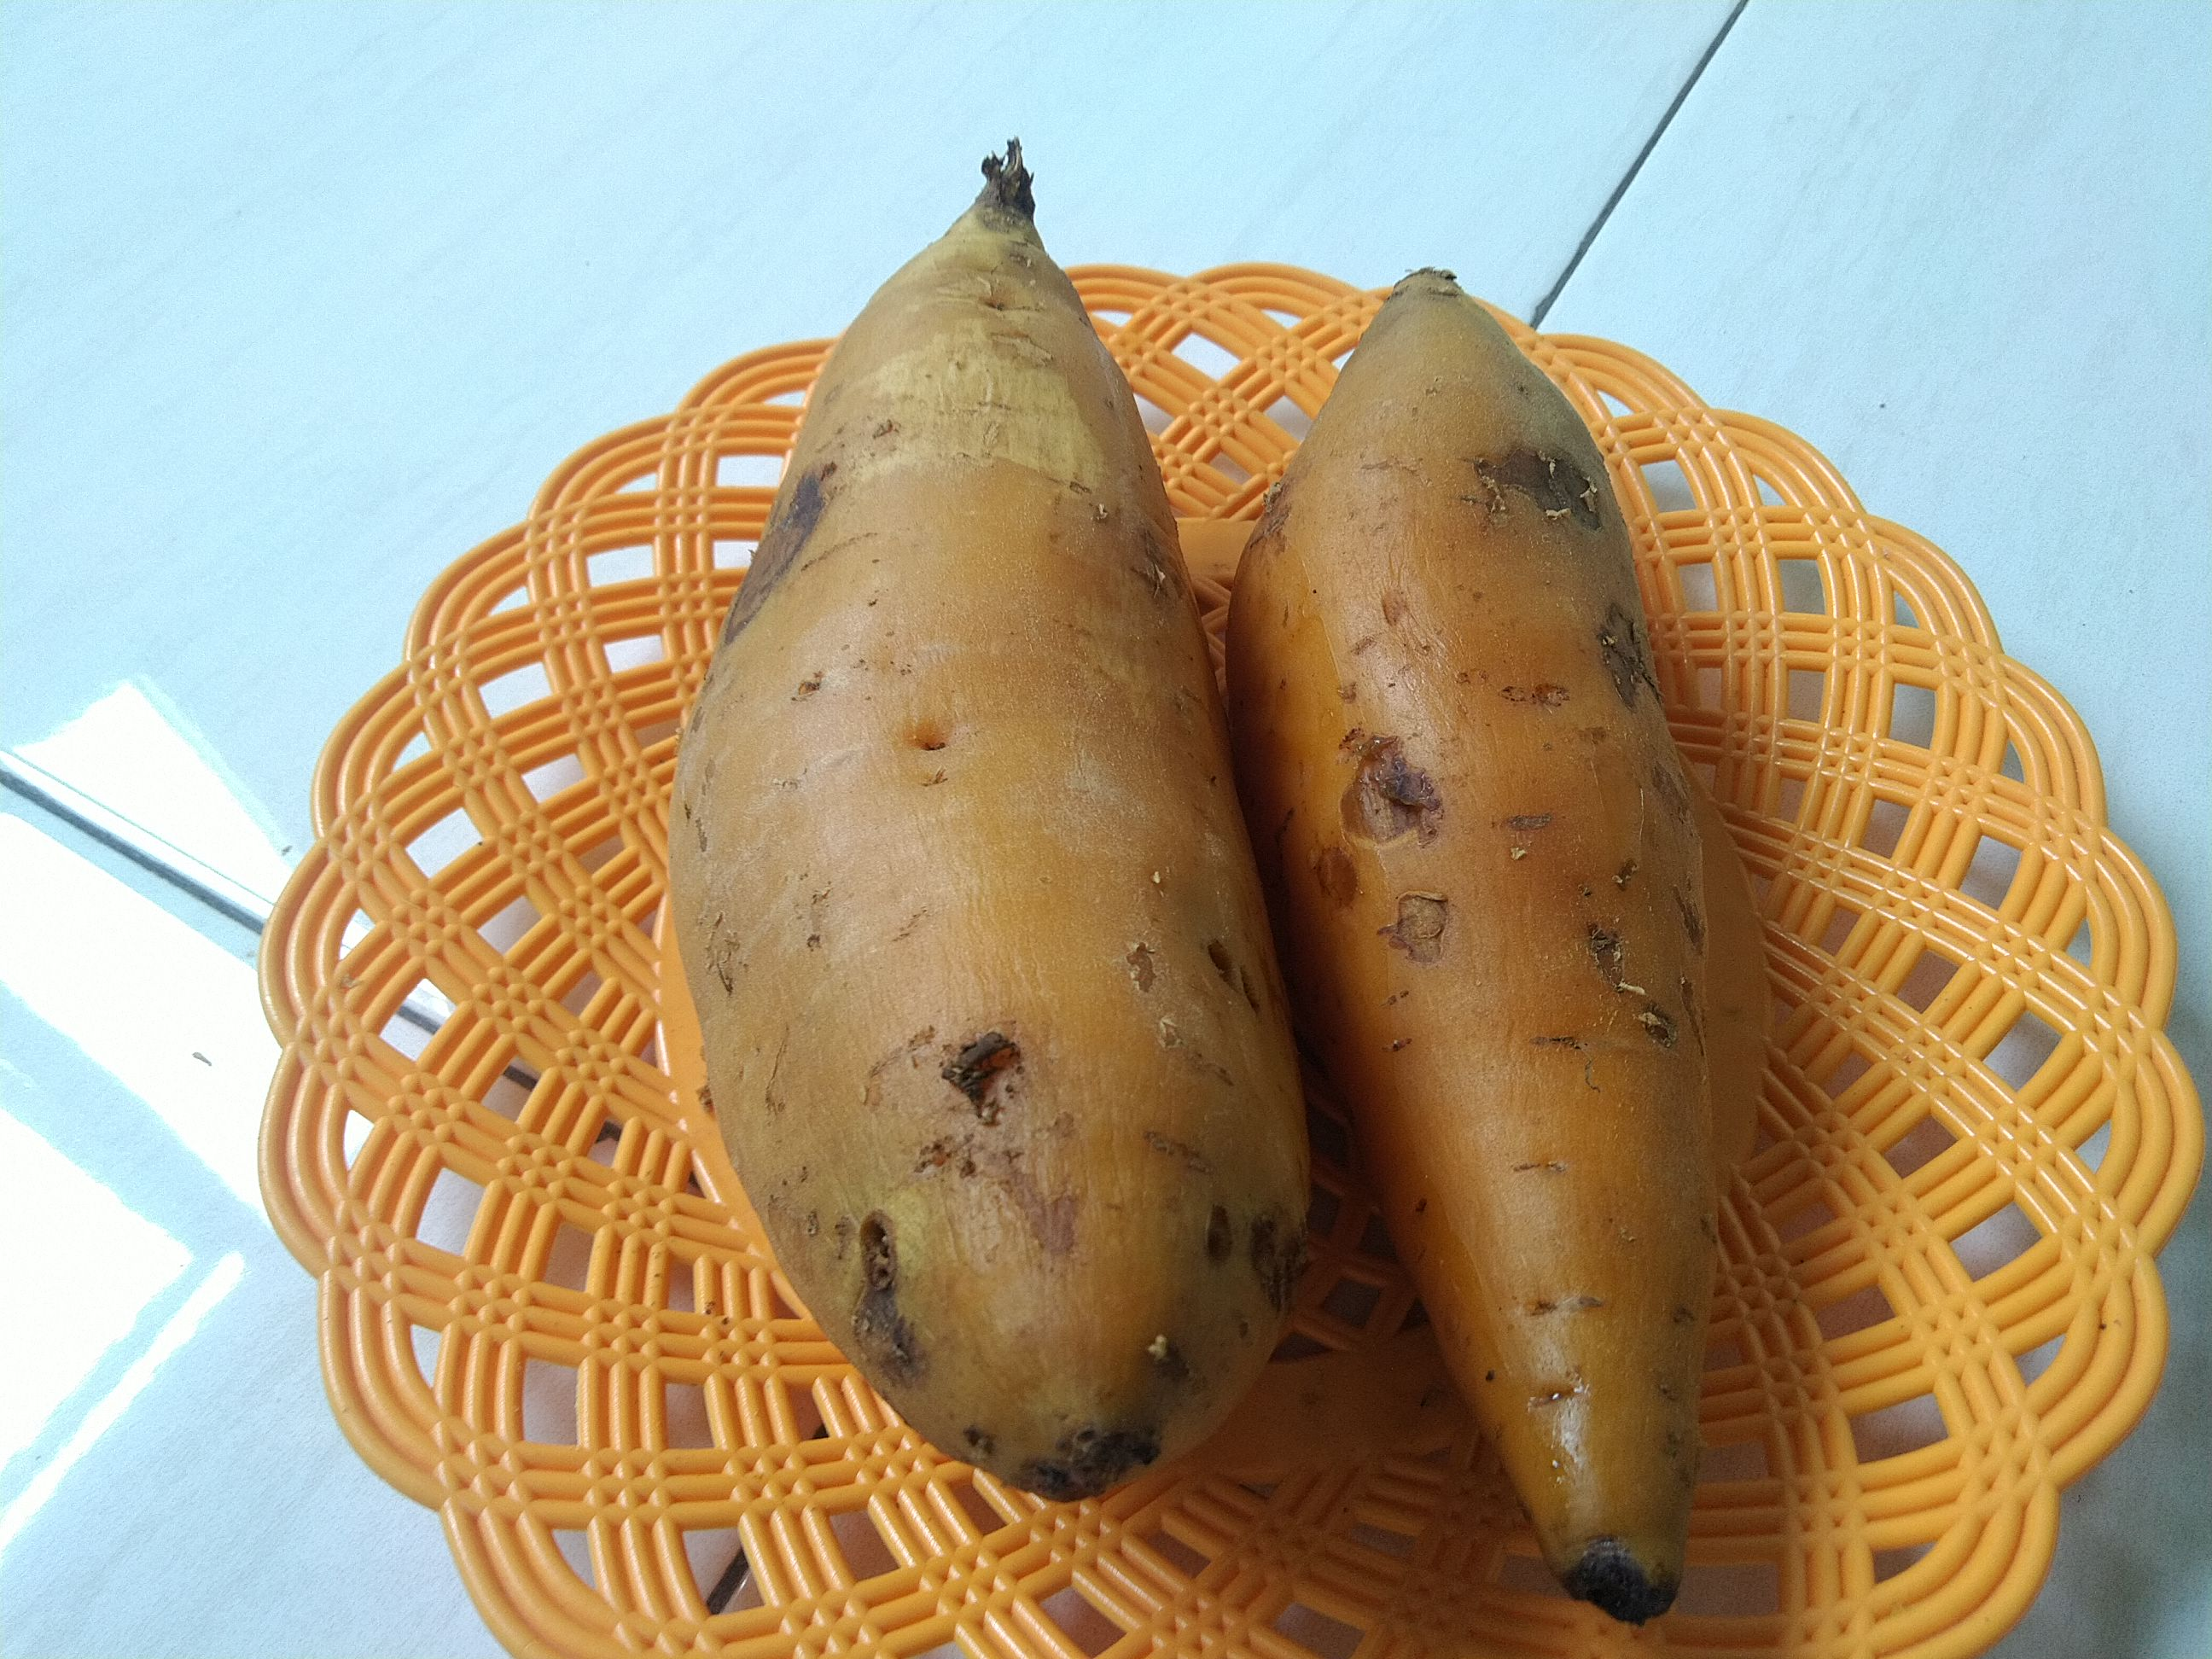ubi cilembu: (648, 150, 1750, 1621), (669, 167, 1310, 1518), (1211, 270, 1721, 1612)
